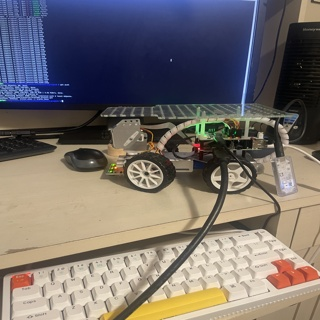vehicle: (101, 103, 296, 192)
